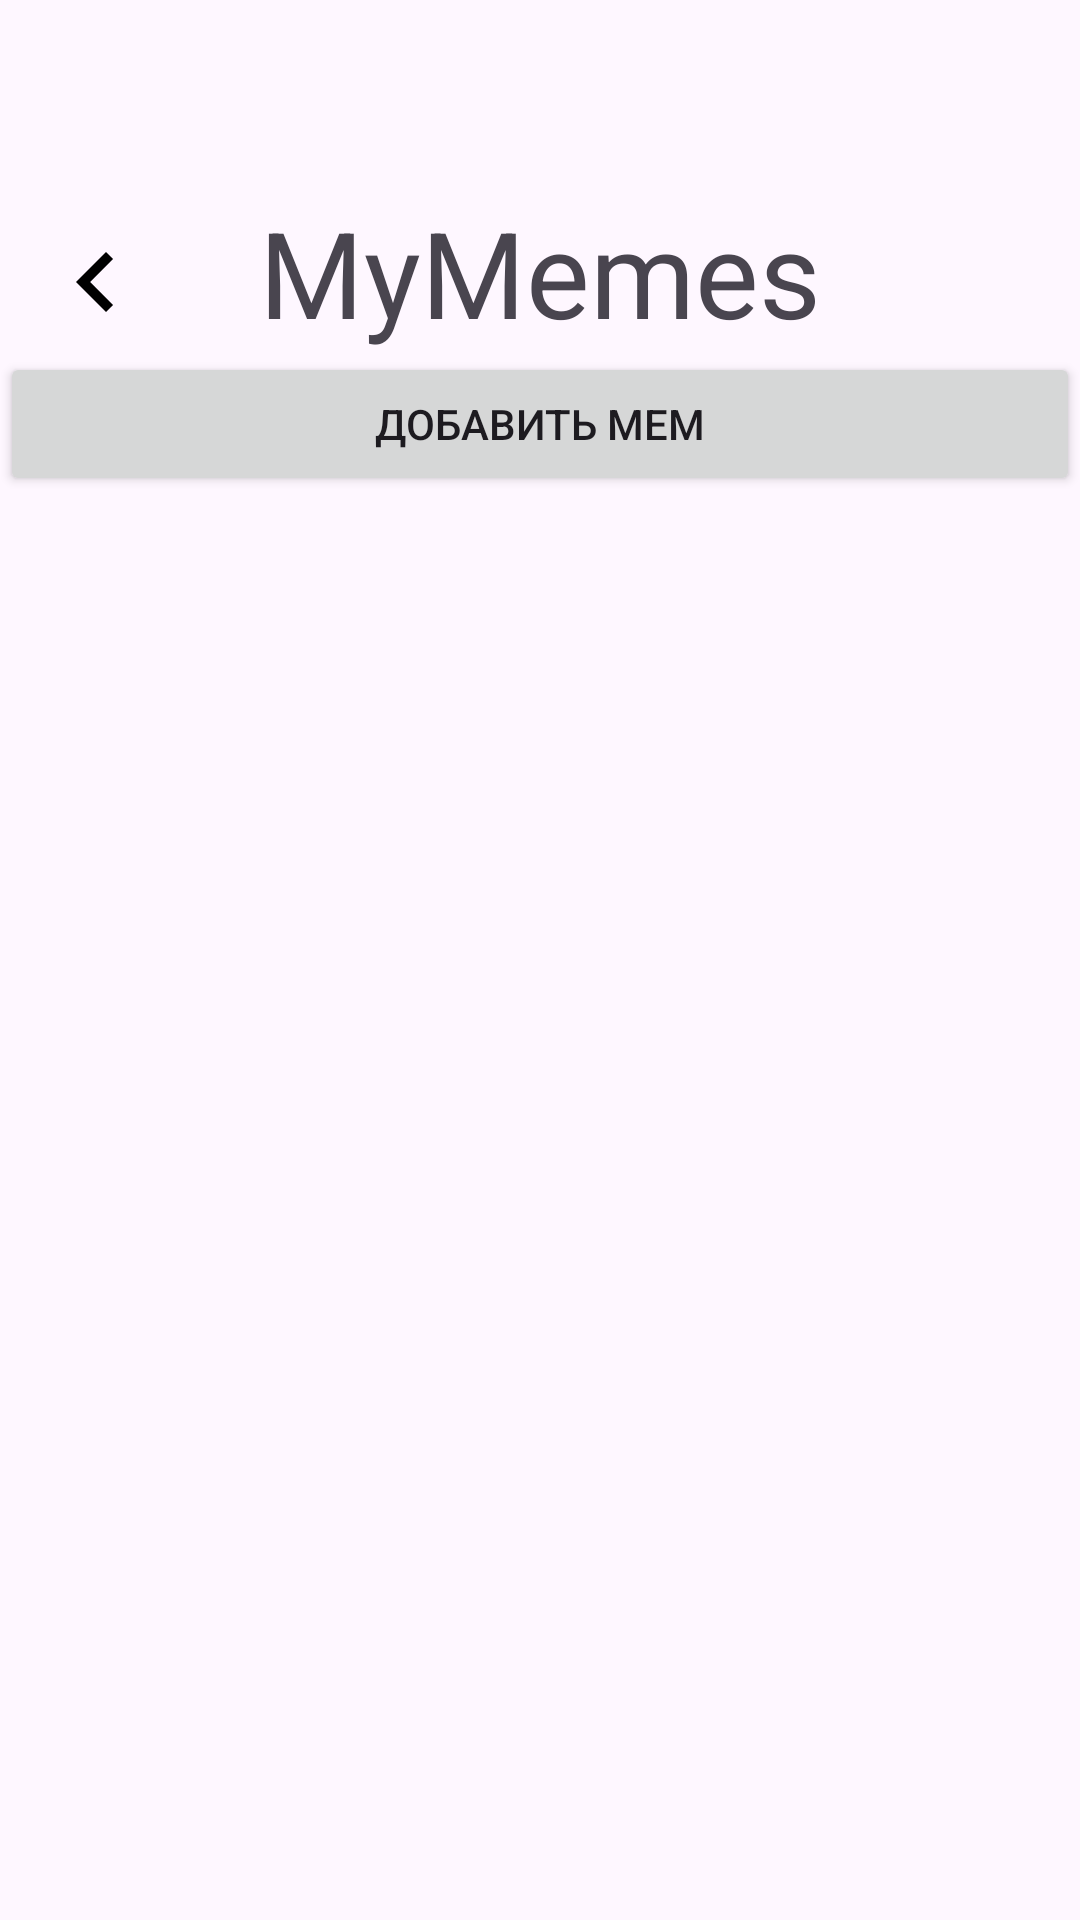

Where icons sit on this 1080 x 1920 app screen, as BBox(x1, y1, x2, y2):
back: BBox(76, 252, 113, 312)
